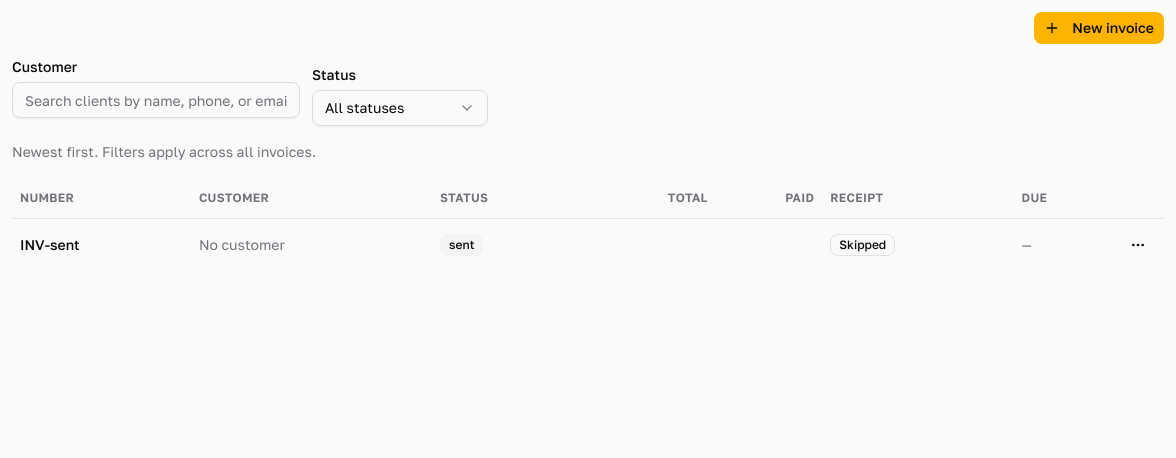
Scenario: invoice row actions › offers void instead of delete once the customer has it
The width and height of the screenshot is (1176, 458).
Click the button named "Actions" at (1138, 244), box [1120,226,1156,262]
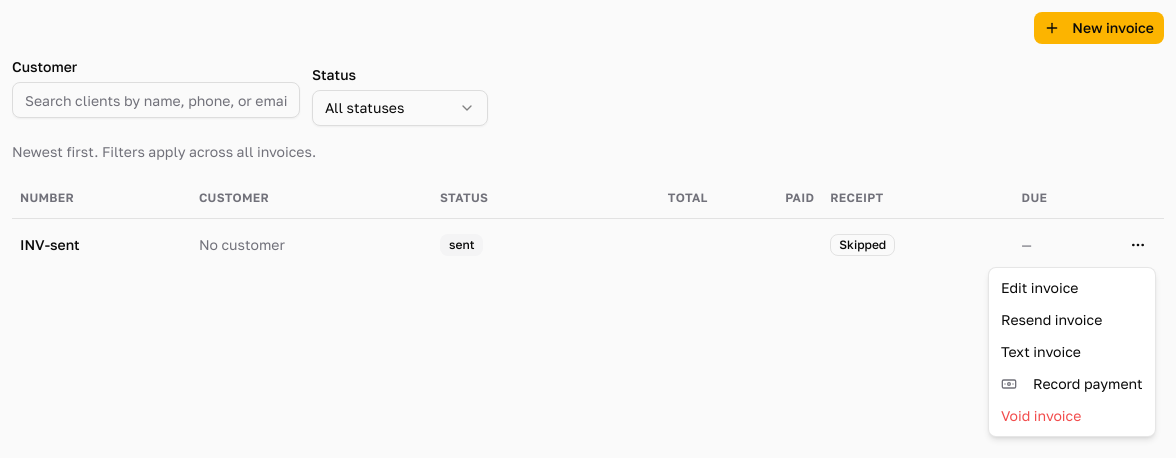
Expected: the menu item "Void invoice" is shown, [1001,407,1081,424]
Expected: the menu item "Resend invoice" is shown, [1001,311,1102,328]
